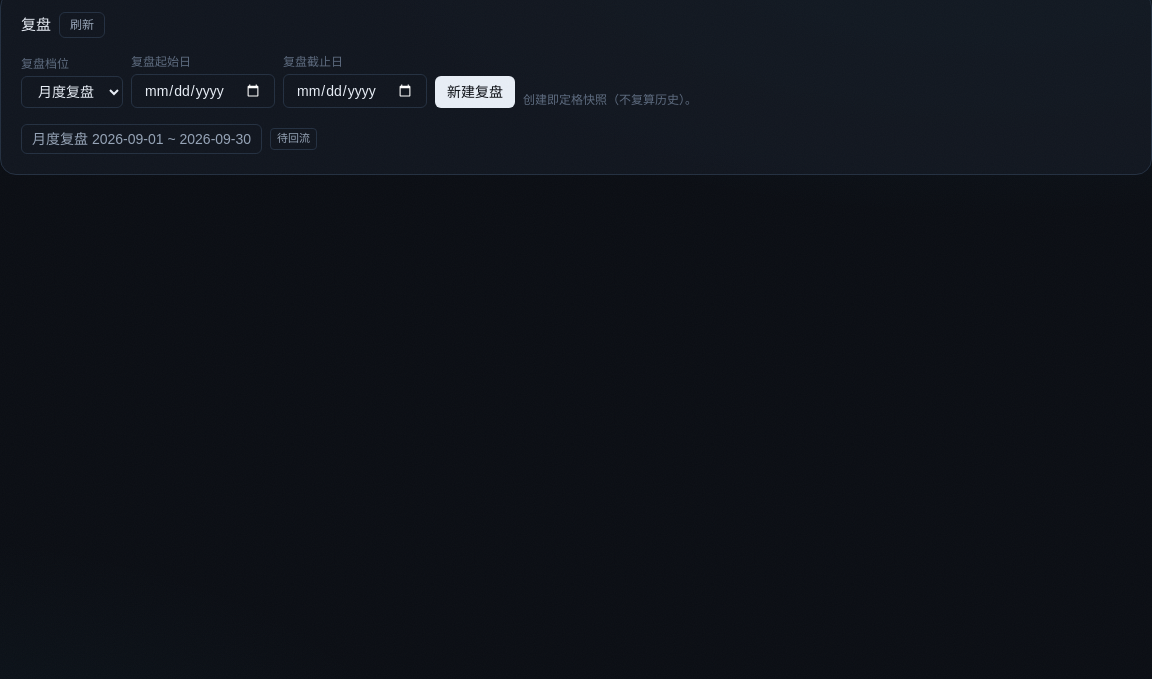
ReviewPanel 复盘列表与三档新建 › 历史列表行（档位+区间+回流徽标）+ 三档新建 POST 载荷后展开季档表单（4.6 追加字段）
Expected: the button "月度复盘 2026-09-01 ~ 2026-09-30" is shown, [21,124,262,154]
Expected: the text "待回流" is shown, [270,128,317,150]
Select "季度复盘" in the dropdown labelled "复盘档位" at (72, 92), box [21,76,123,108]
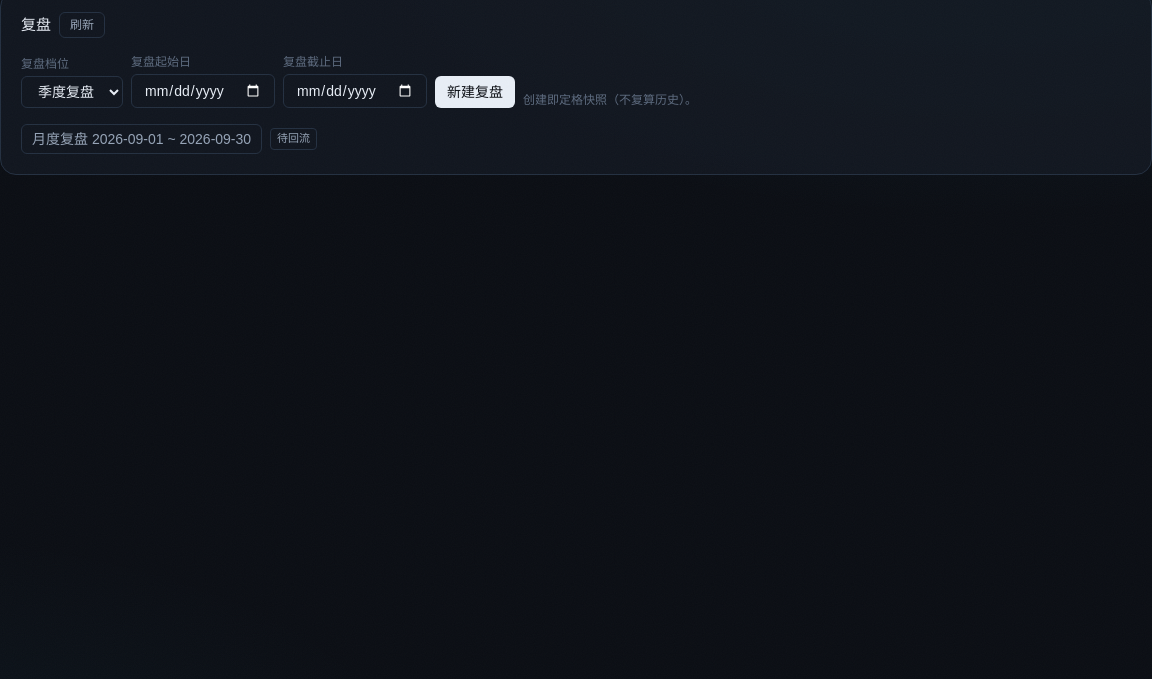
Type "2026-07-01" into the date field labelled "复盘起始日".
click(203, 91); type("2026-07-01")  # box [131,74,275,108]
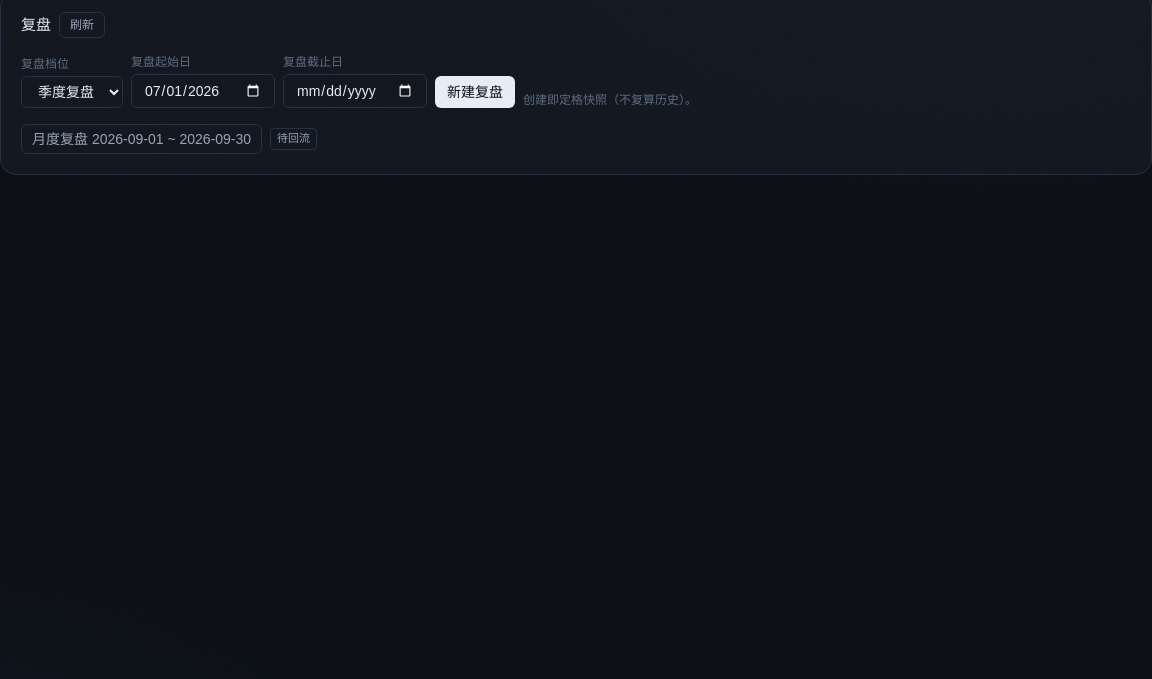
Type "2026-09-30" into the date field labelled "复盘截止日".
click(355, 91); type("2026-09-30")  # box [283,74,427,108]
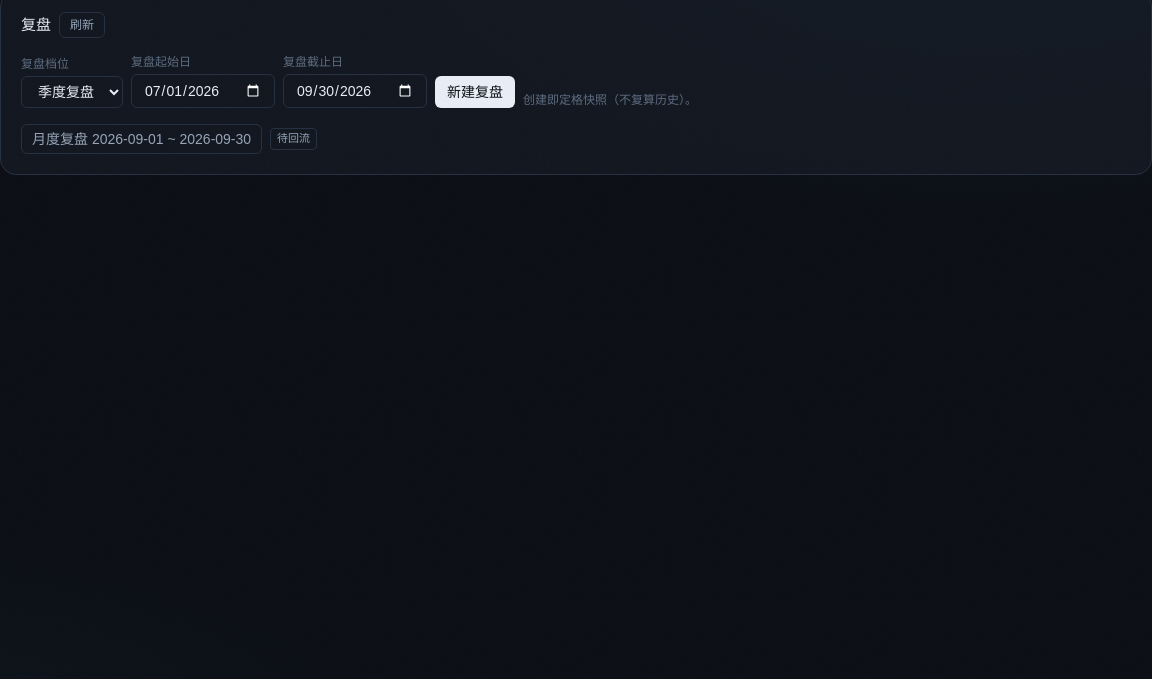
Click the button "新建复盘".
click(475, 92)  # box [435,76,515,108]
(page scrolled)
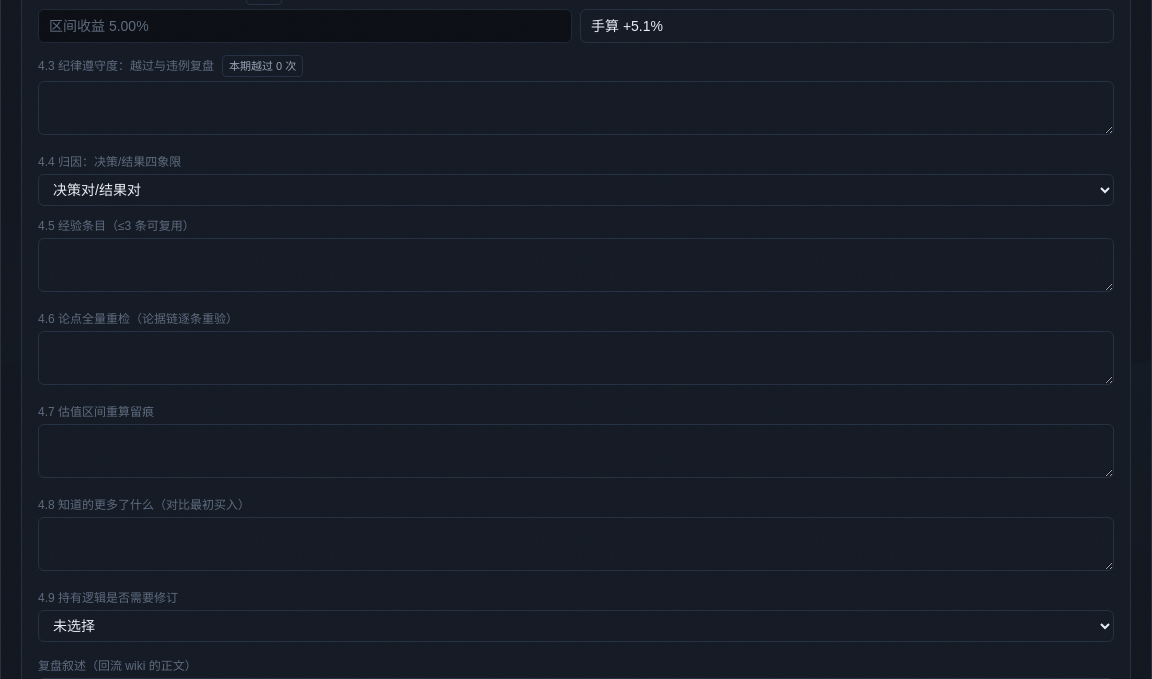
Now the text box named "论点全量重检（论据链逐条重验）" is shown, box [38,331,1114,385]
